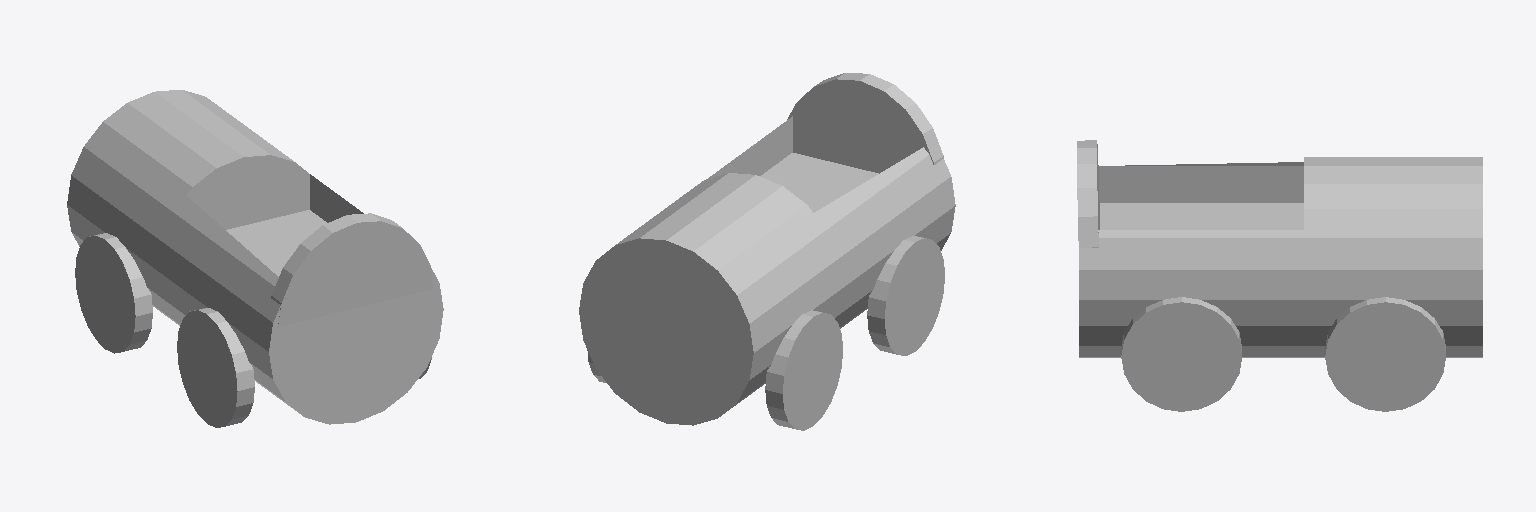
File: car.obj
3 views of the same model, side by side, from view 1: azimuth 30°, elevation 25°; view 2: azimuth 150°, elevation 25°; view 3: azimuth 270°, elevation 25° (orthographic).
Visible parts, largest first — view 1: pCylinder6, pCylinder7, pCylinder4, pCylinder5; view 2: pCylinder6, pCylinder7, pCylinder5, pCylinder4; view 3: pCylinder6, pCylinder2, pCylinder3, pCylinder7.
Boxes of the visible parts, <box> form: pCylinder6: <box>67,90,443,424</box>; pCylinder7: <box>271,213,433,326</box>; pCylinder4: <box>75,233,152,353</box>; pCylinder5: <box>177,308,254,427</box>; pCylinder6: <box>579,116,955,425</box>; pCylinder7: <box>787,73,943,173</box>; pCylinder5: <box>867,236,944,355</box>; pCylinder4: <box>765,310,842,430</box>; pCylinder6: <box>1079,157,1482,357</box>; pCylinder2: <box>1121,297,1241,411</box>; pCylinder3: <box>1325,297,1445,411</box>; pCylinder7: <box>1077,140,1099,247</box>.
Size of the model in its own units: 2.24 by 2.37 by 4.03.